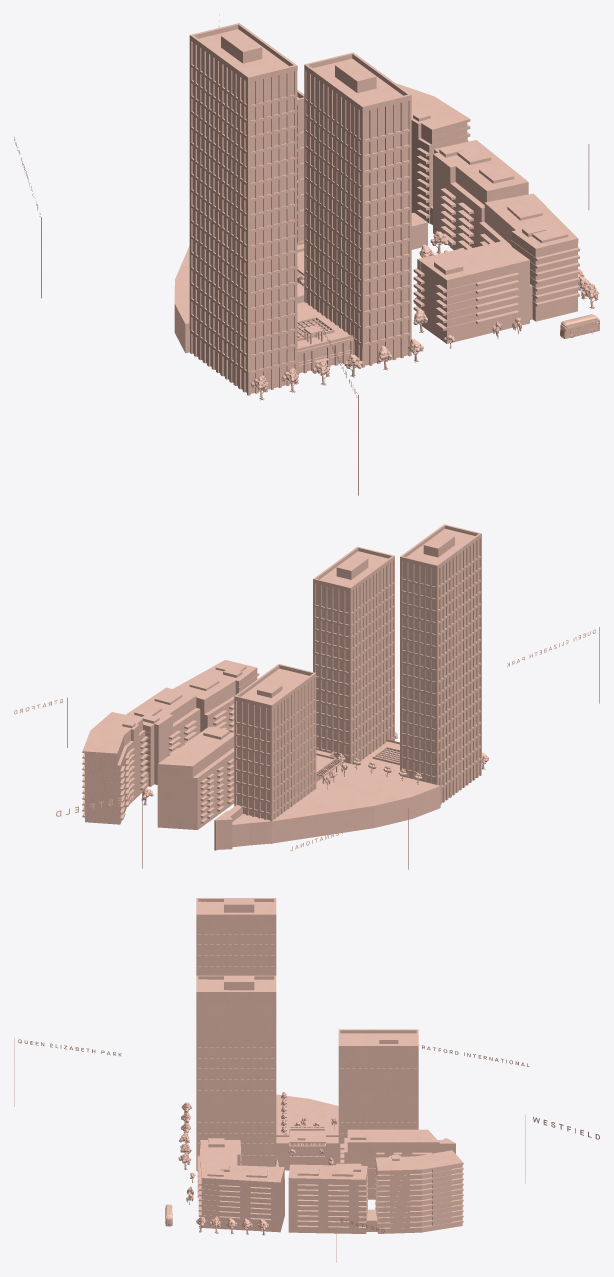
The model's file is CMS12.gltf.
3 views of the same model, one above another, from view 1: azimuth 30°, elevation 25°; view 2: azimuth 150°, elevation 25°; view 3: azimuth 270°, elevation 25° (orthographic). The views are drawn at different scales.
Visible parts, largest first — view 1: Xavier, Bussell, Hows, Sandhu, Base, Tree, Harrison, Bus; view 2: Xavier, Bussell, Harrison, Sandhu, Base, Aarons, Hows, Tree; view 3: Bussell, Sandhu, Harrison, Hows, Xavier, Base, Aarons, Tree.
Part boxes in pixels (x1,y1,x2,y2): Xavier: (189, 23, 297, 395); Bussell: (304, 52, 411, 367); Hows: (413, 193, 579, 343); Sandhu: (396, 83, 528, 250); Base: (174, 244, 353, 374); Tree: (250, 231, 598, 400); Harrison: (297, 90, 304, 245); Bus: (560, 314, 599, 338); Xavier: (400, 524, 481, 804); Bussell: (313, 546, 394, 764); Harrison: (214, 664, 316, 850); Sandhu: (82, 687, 200, 824); Base: (272, 739, 440, 843); Aarons: (157, 726, 234, 829); Hows: (173, 660, 259, 732); Tree: (141, 732, 488, 805); Bussell: (196, 975, 276, 1170); Sandhu: (288, 1150, 463, 1233); Harrison: (338, 1029, 455, 1163); Hows: (197, 1138, 284, 1232); Xavier: (196, 898, 276, 975); Base: (276, 1094, 338, 1170); Aarons: (340, 1129, 439, 1199); Tree: (178, 1092, 337, 1235).
Bounding box in the file's own units: 222 × 129 × 307.
3 materials, 3 textured.
